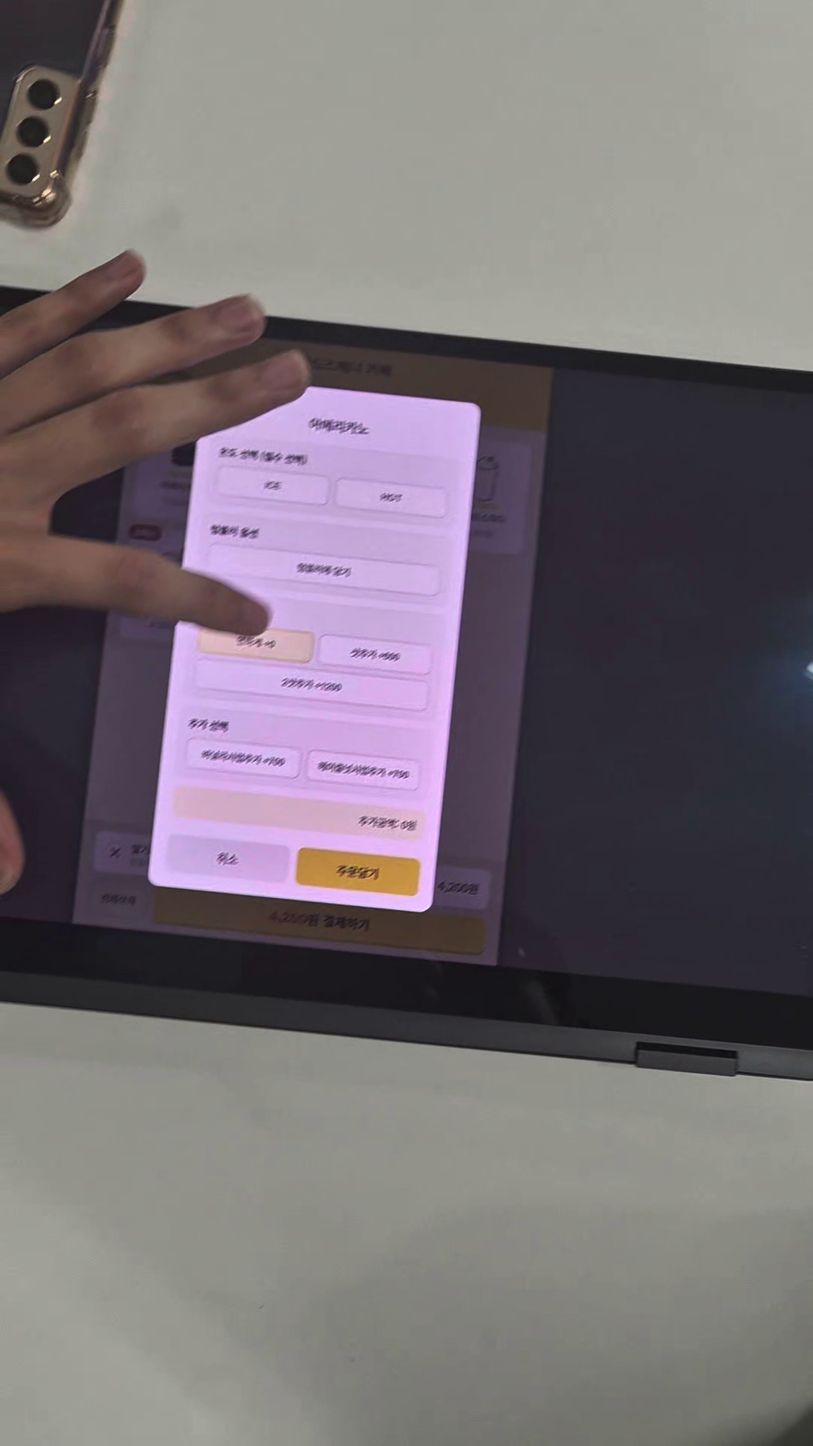action_button: (295, 847, 420, 896), (166, 834, 291, 882)
option_button: (208, 543, 442, 598), (197, 657, 431, 712), (185, 737, 302, 779), (334, 477, 450, 519), (305, 750, 421, 792), (317, 634, 432, 676), (199, 622, 314, 664), (217, 465, 330, 505)
popup_modal: (146, 373, 480, 914)
